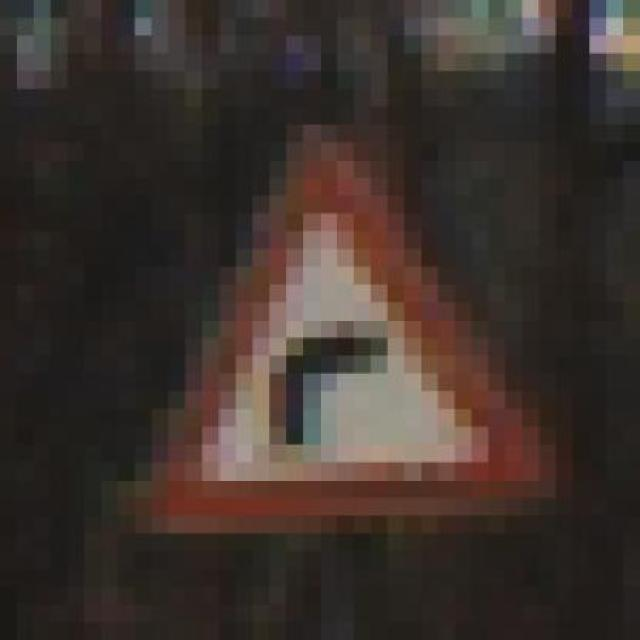Dangerous Rright Curve Ahead: (118, 106, 573, 569)
